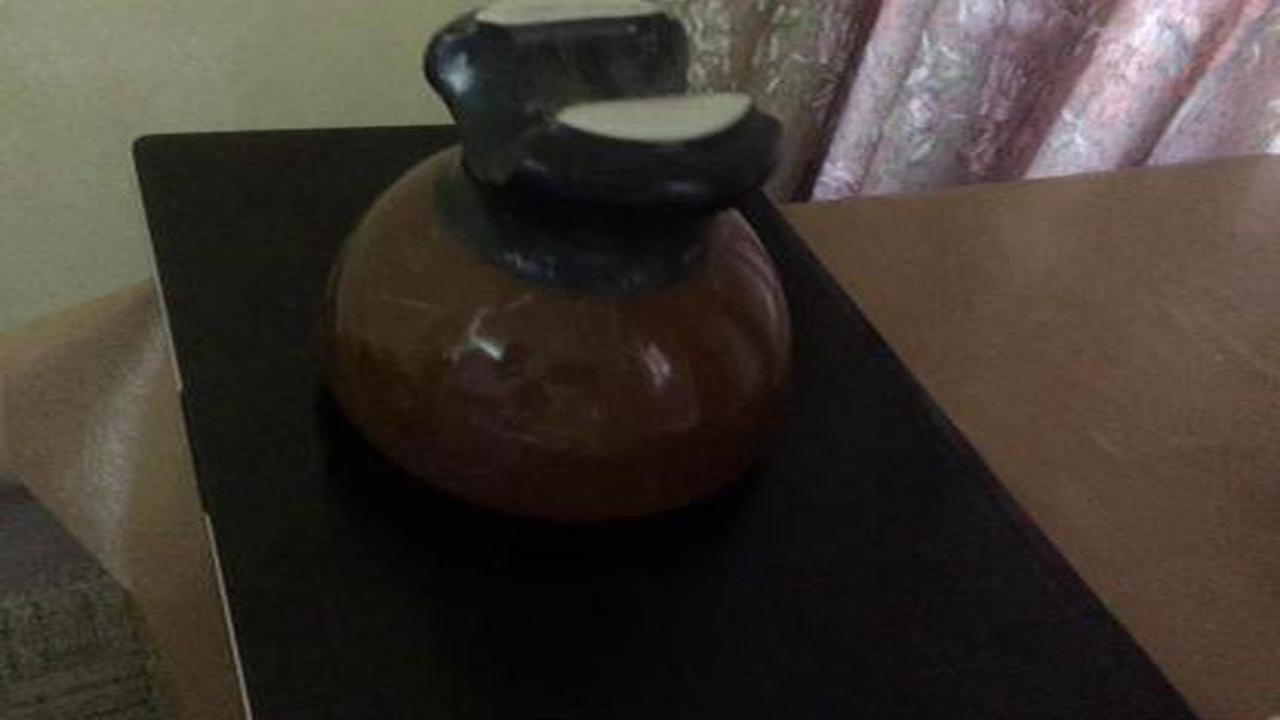insulator_pin: (293, 1, 816, 534)
